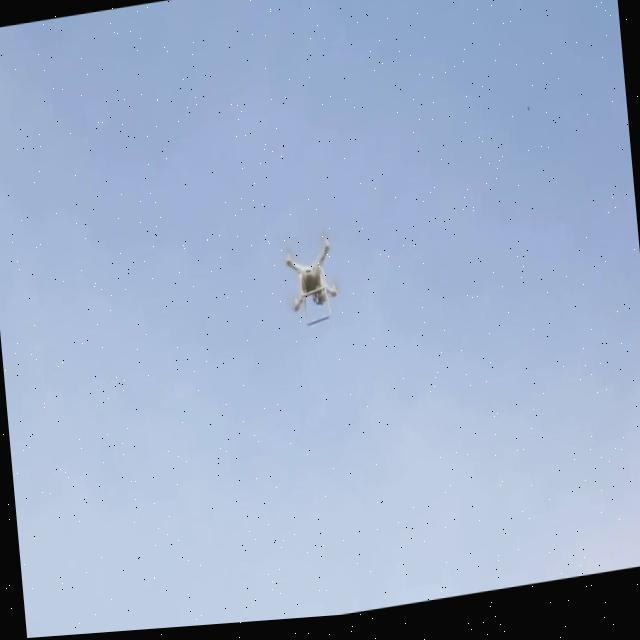drone: (256, 207, 372, 361)
